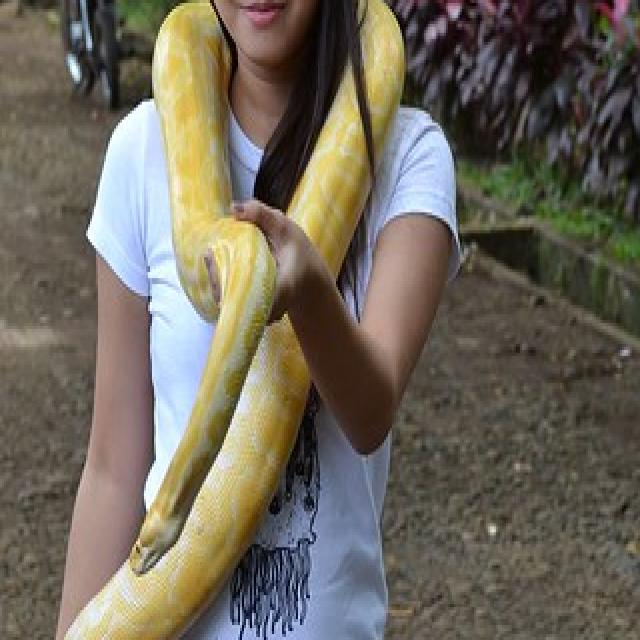Snake: (46, 0, 378, 640)
